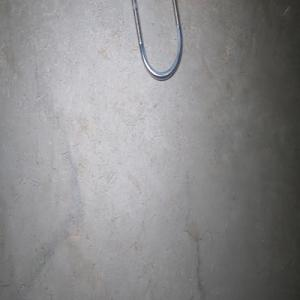ClampPart: (130, 0, 183, 81)
